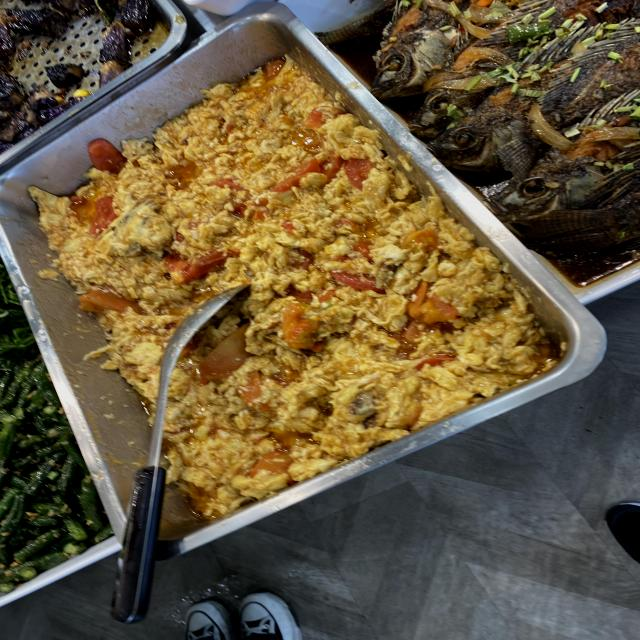Scramble Egg with Tomatoes: (115, 147, 377, 281)
